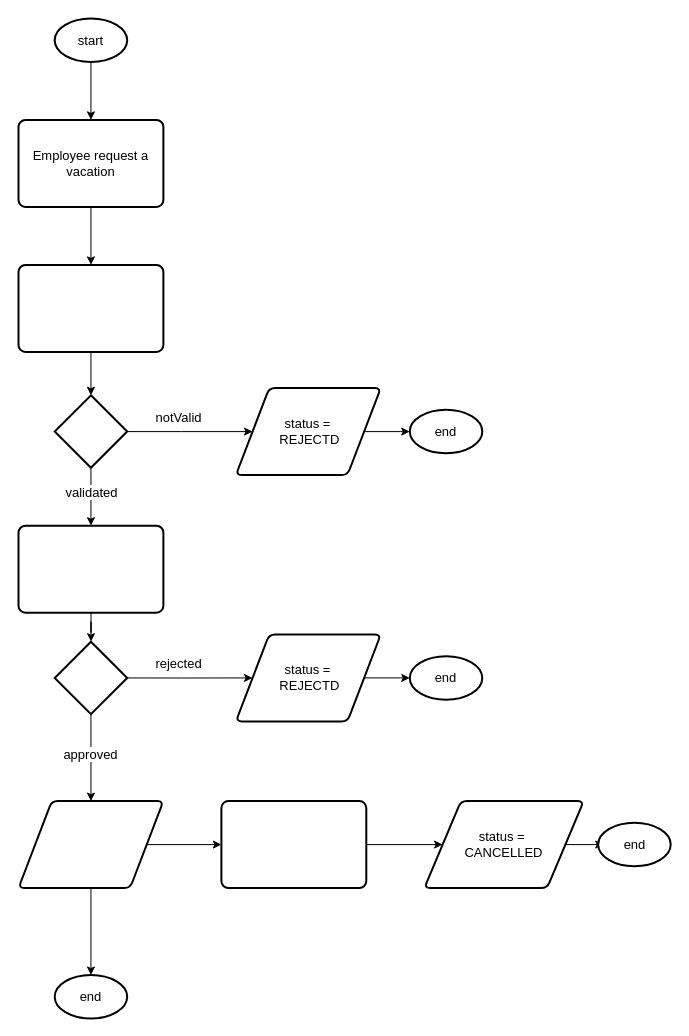
The diagram is 689 pixels wide and 1036 high, and some of its shapes have lost their labels. Each missing label, with the centre of its shape:
Employee cancel Vacation: the point at 293,844
Manager approve request: the point at 90,568
status = APPROVED: the point at 90,844
System validate vacation request: the point at 90,307
